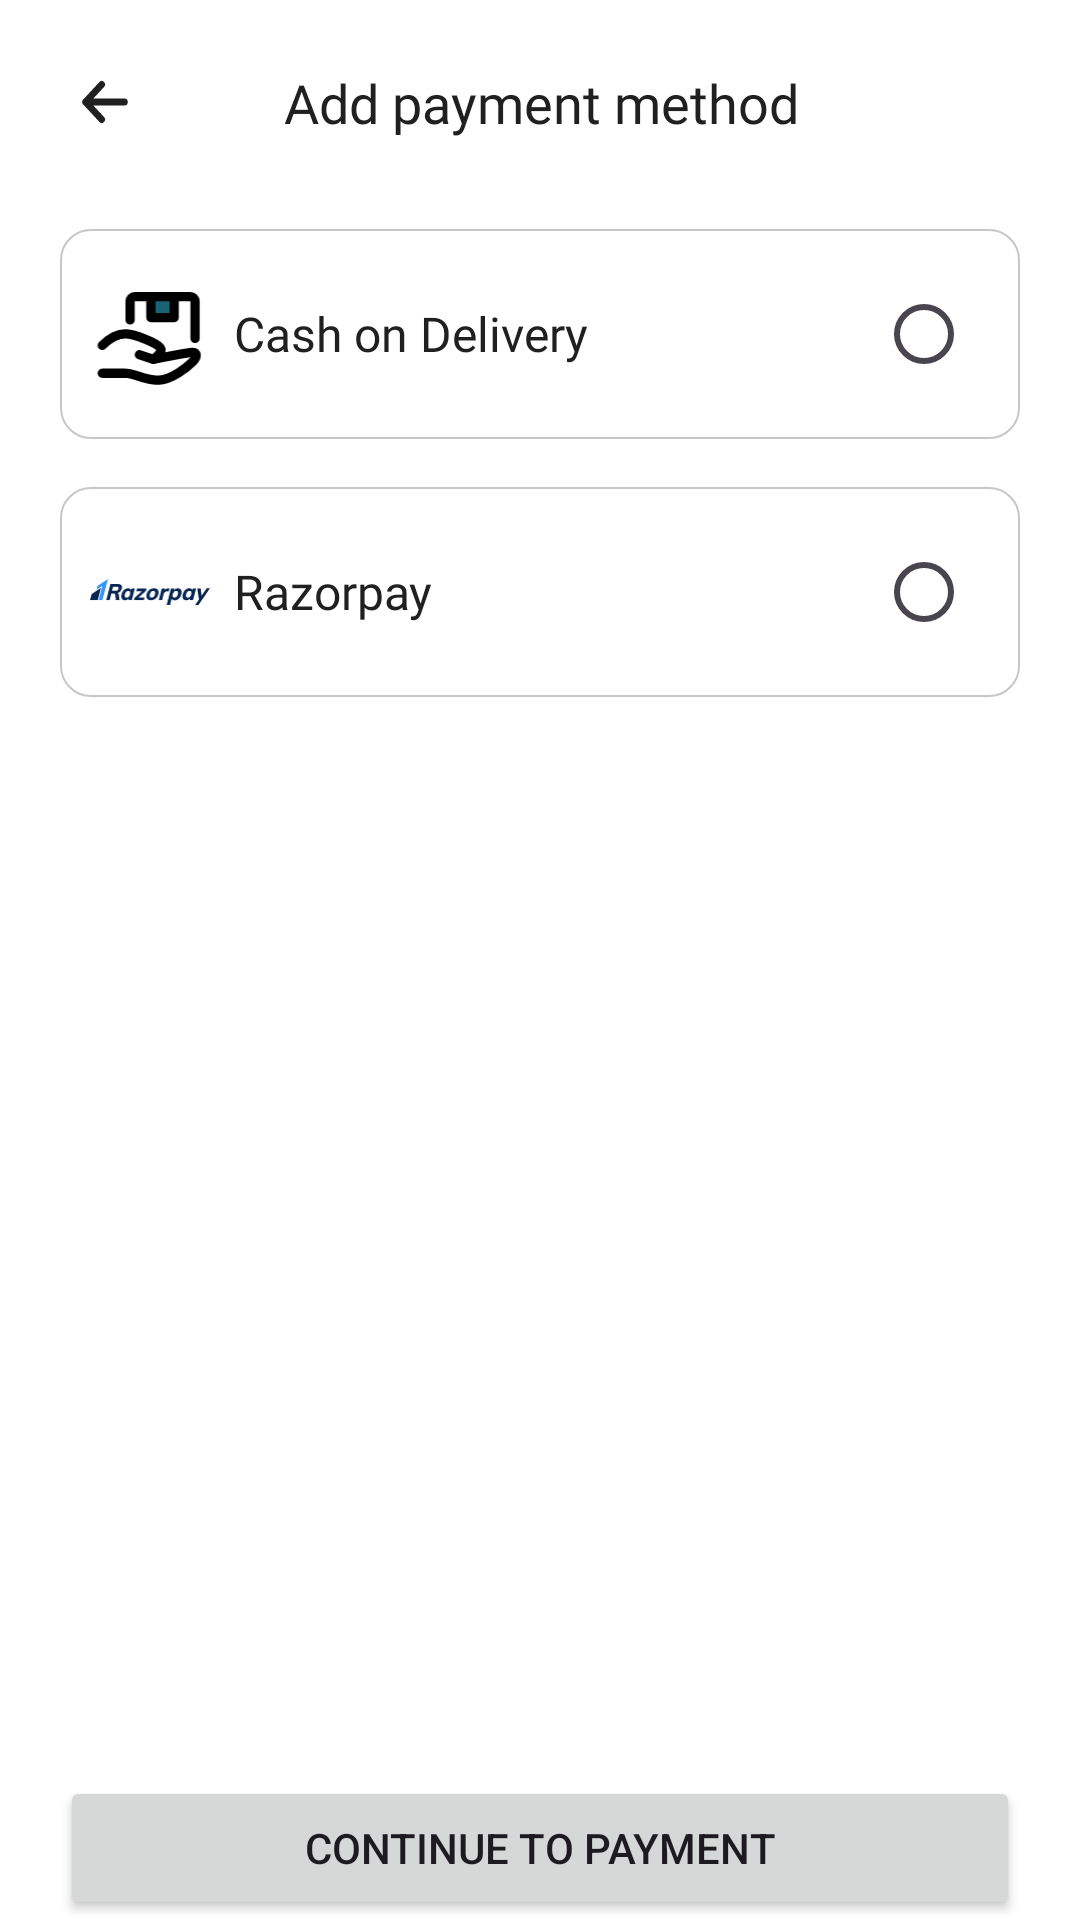

Icons on this 1080x1920 Android screen, each with the point to tap as [x,y]:
arrow: [105,102]
